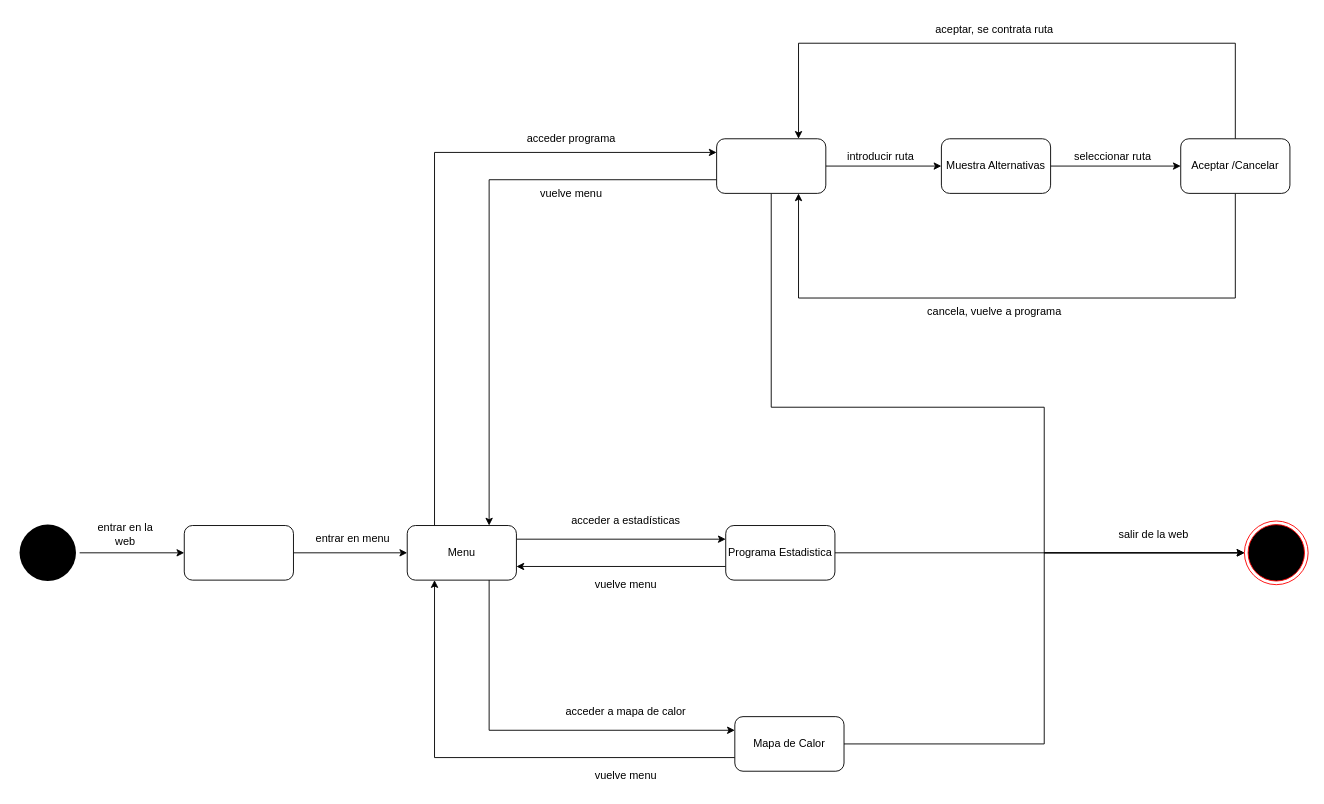
Some shapes in this 1324 by 804 pixel diagram are drawn without their labels. The centre of each missing label's shape, as x and y in pixels:
Pagina Login: [238,552]
Programa Alt. Rutas: [771,165]
